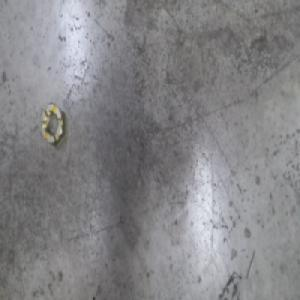Nut: (38, 100, 66, 148)
